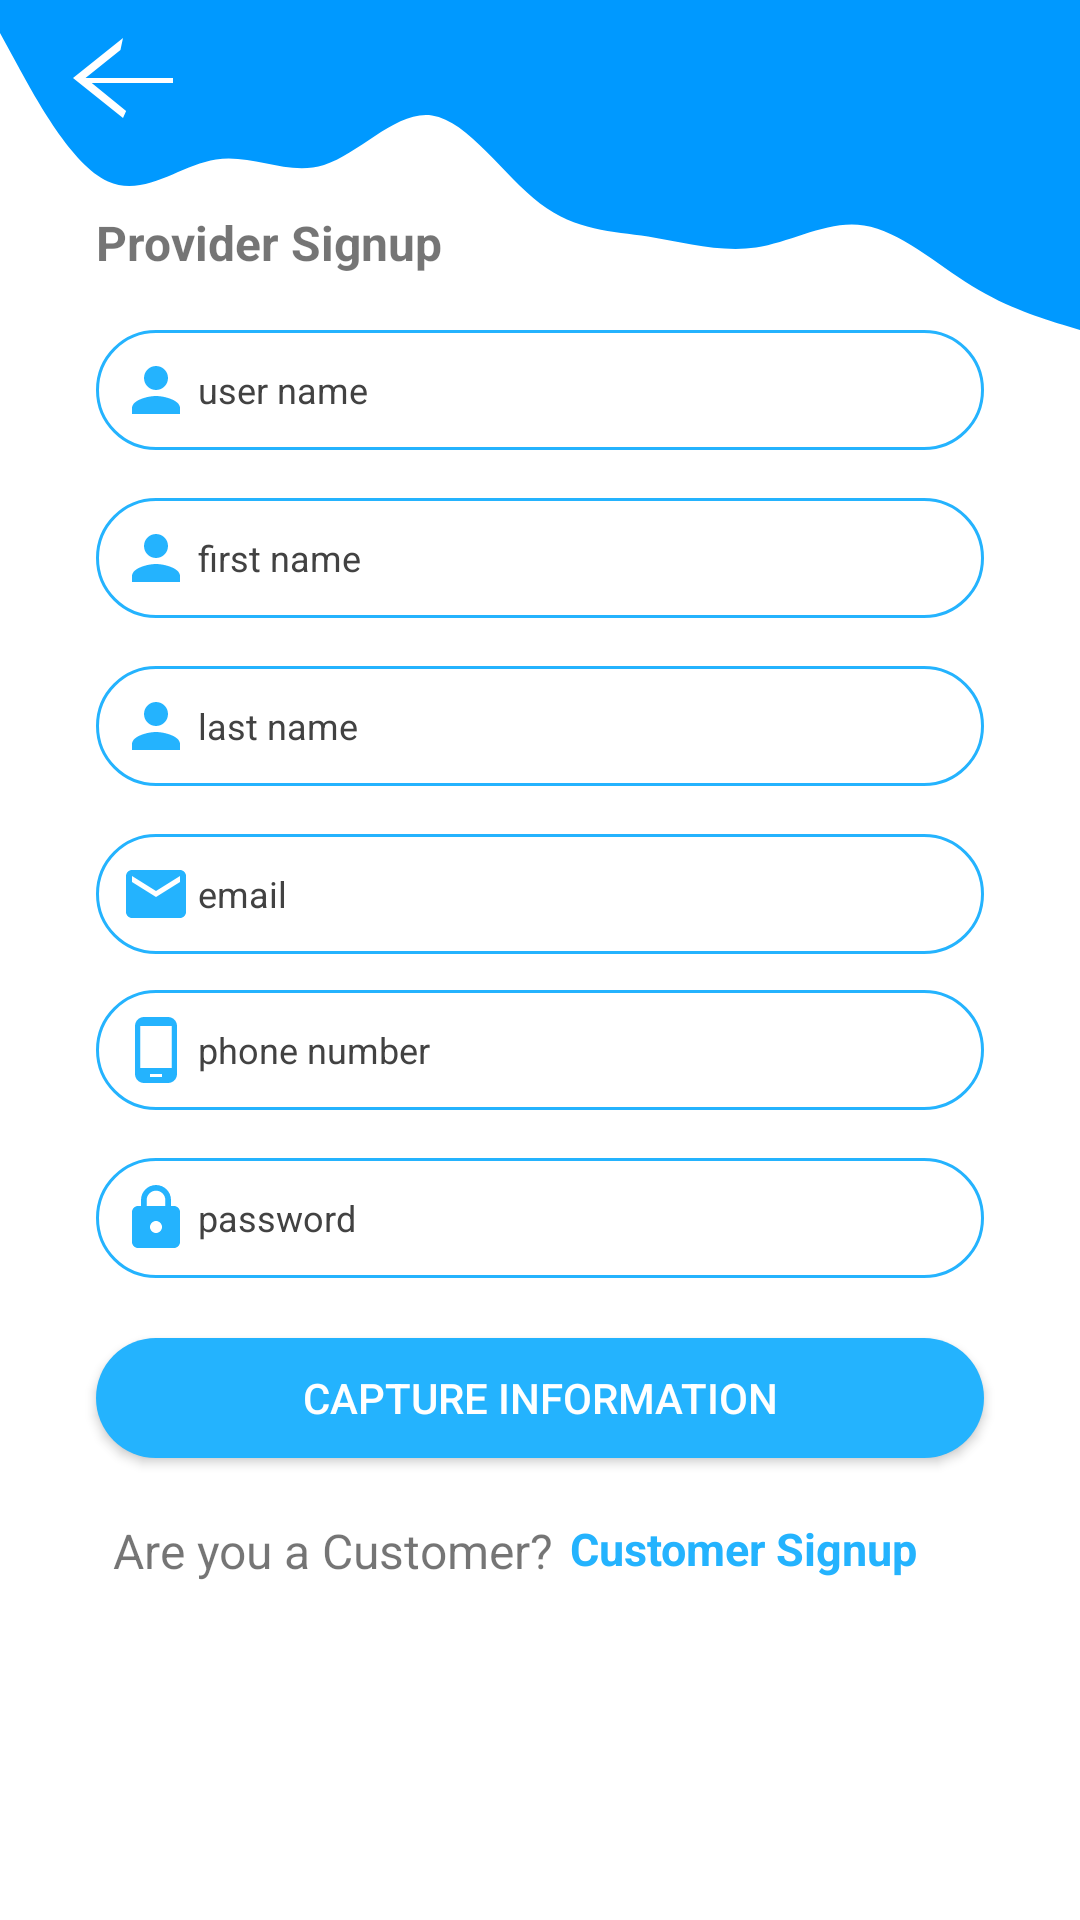

Screen size 1080×1920. Icon name, then its box in pixels as BBox(x1, y1, x2, y2):
back arrow: BBox(73, 38, 173, 118)
